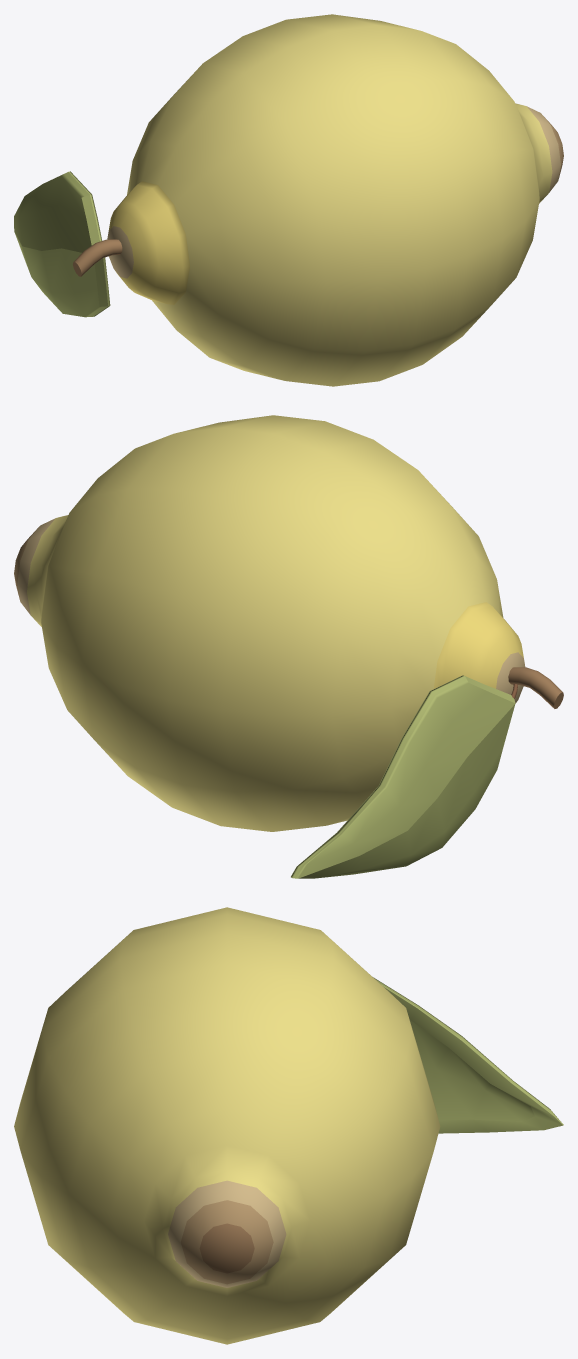
Rendered from atoll_sm_lemon.fbx.
3 views of the same model, one above another, from view 1: azimuth 30°, elevation 25°; view 2: azimuth 150°, elevation 25°; view 3: azimuth 270°, elevation 25° (orthographic). The views are drawn at different scales.
Parts seen in each view (by area): view 1: Lemon, Leaf, Stem; view 2: Lemon, Leaf, Stem; view 3: Lemon, Leaf.
Boxes of the visible parts, bbox=[...] form: Lemon: bbox=[107, 14, 563, 386]; Leaf: bbox=[14, 171, 110, 317]; Stem: bbox=[73, 239, 122, 276]; Lemon: bbox=[14, 415, 525, 831]; Leaf: bbox=[291, 675, 515, 878]; Stem: bbox=[508, 667, 563, 708]; Lemon: bbox=[14, 907, 440, 1344]; Leaf: bbox=[373, 977, 563, 1133].
Size of the model in its own units: 18 by 12.15 by 15.68.
